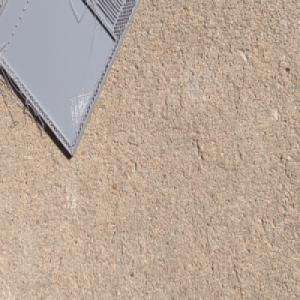PlasticPart: (0, 0, 139, 160)
